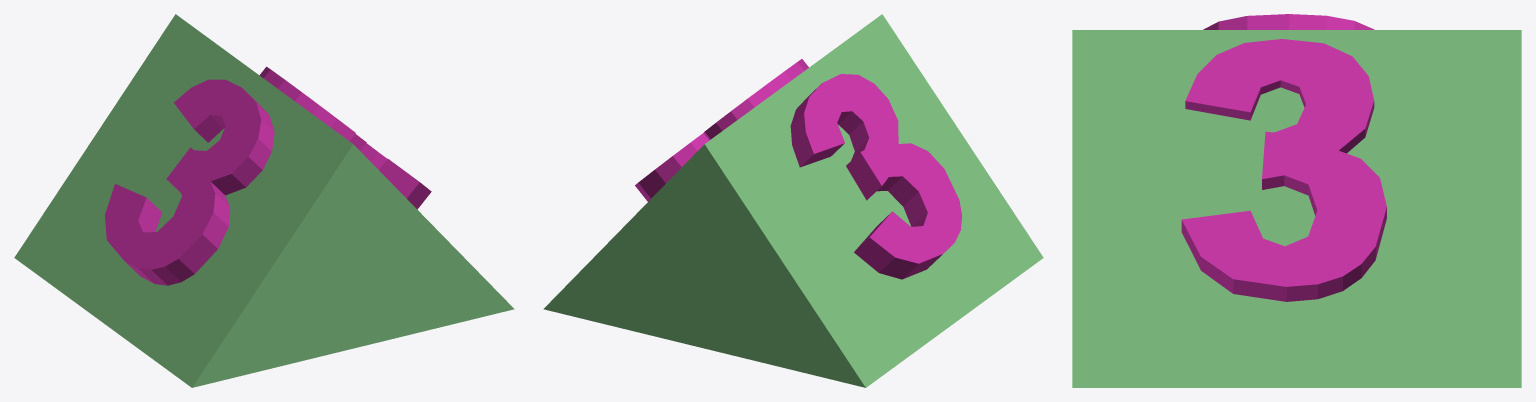
File: number3.glb
3 views of the same model, side by side, from view 1: azimuth 30°, elevation 25°; view 2: azimuth 150°, elevation 25°; view 3: azimuth 270°, elevation 25° (orthographic). The views are drawn at different scales.
Parts seen in each view (by area): view 1: Mesh_Mesh_head_geo.001_lambert2SG.001; view 2: Mesh_Mesh_head_geo.001_lambert2SG.001; view 3: Mesh_Mesh_head_geo.001_lambert2SG.001.
Boxes of the visible parts, x1=… form: Mesh_Mesh_head_geo.001_lambert2SG.001: x1=14, y1=14, x2=514, y2=387; Mesh_Mesh_head_geo.001_lambert2SG.001: x1=543, y1=14, x2=1043, y2=387; Mesh_Mesh_head_geo.001_lambert2SG.001: x1=1072, y1=14, x2=1521, y2=387.
Bounding box in the file's own units: 0.109 × 0.066 × 0.104.
